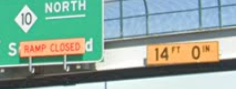0: (190, 44, 201, 61)
1: (153, 47, 160, 62)
4: (160, 46, 169, 61)
overheadsign: (144, 41, 220, 66)
